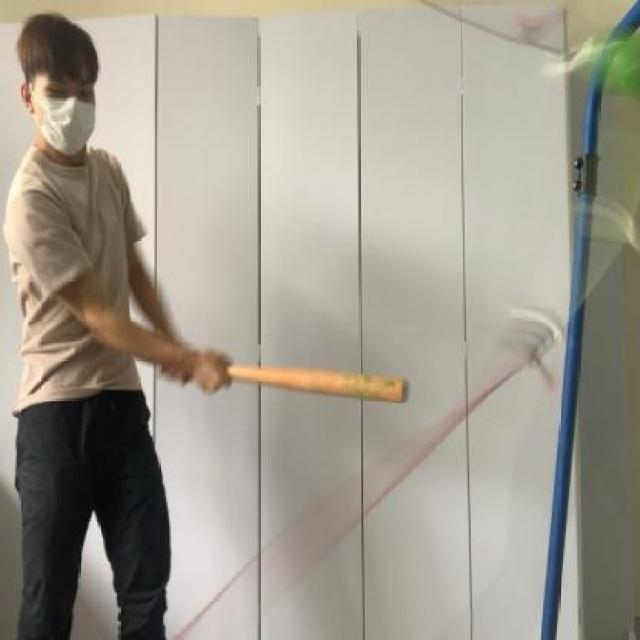baseball: (592, 29, 640, 100)
